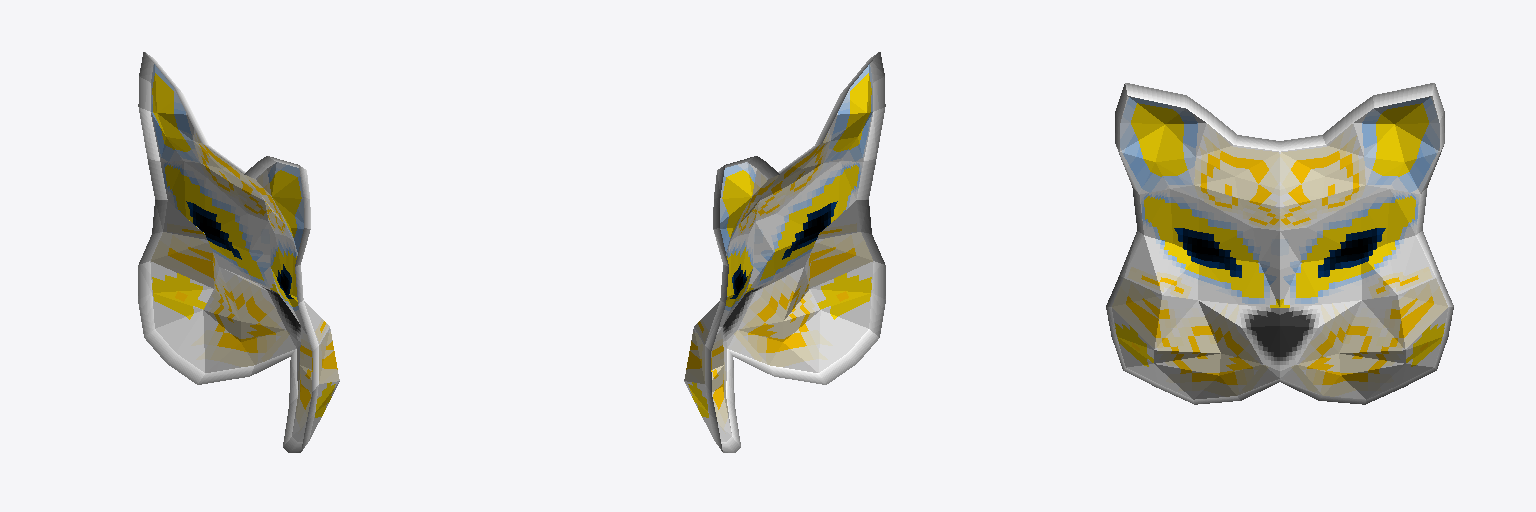
The picture shows the model from 3 angles: view 1: azimuth 30°, elevation 25°; view 2: azimuth 150°, elevation 25°; view 3: azimuth 270°, elevation 25°; orthographic projection.
Visible parts, largest first — view 1: mask_player_4; view 2: mask_player_4; view 3: mask_player_4.
Part boxes in pixels (x1,y1,x2,y2): mask_player_4: (138, 52, 339, 452); mask_player_4: (684, 52, 885, 452); mask_player_4: (1106, 83, 1453, 404).
Bounding box in the file's own units: 18.77 × 67.42 × 67.98.
1 materials, 1 textured.